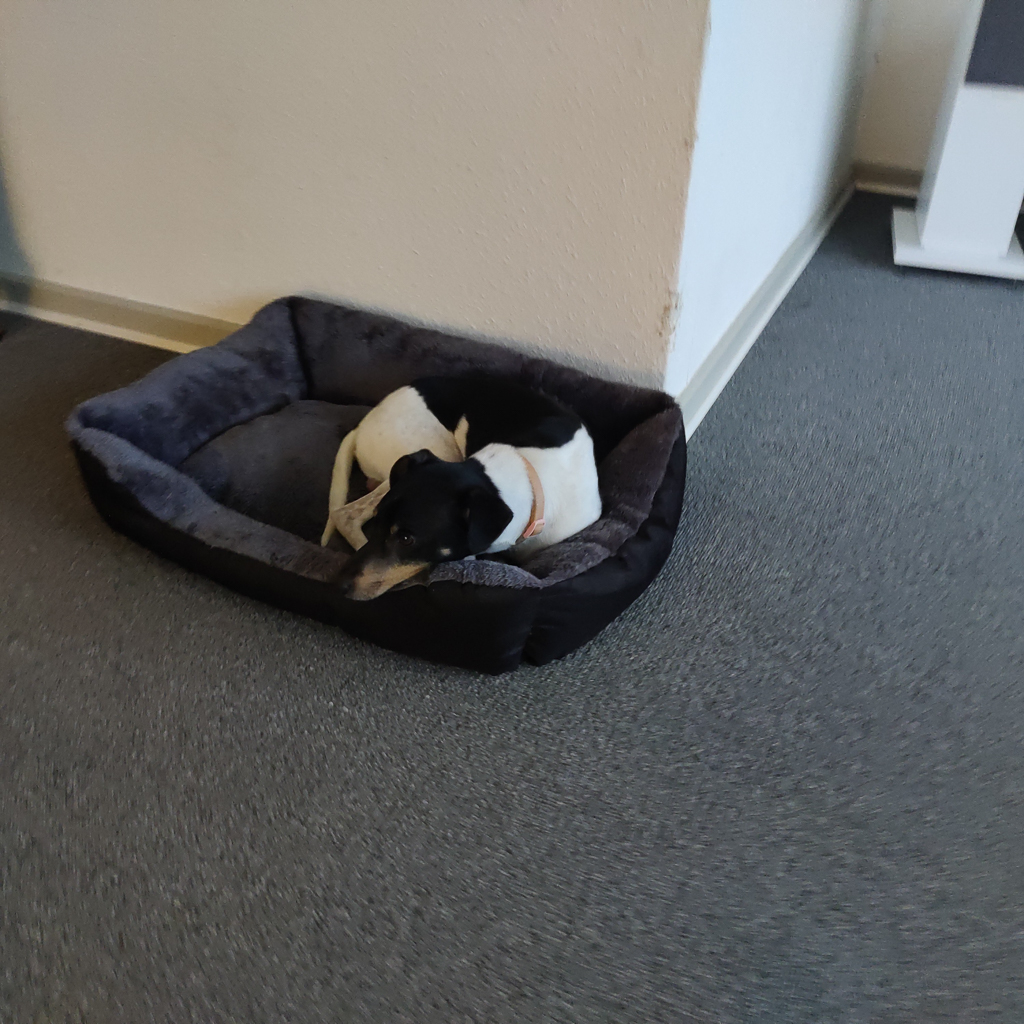Dog: (288, 336, 617, 620)
